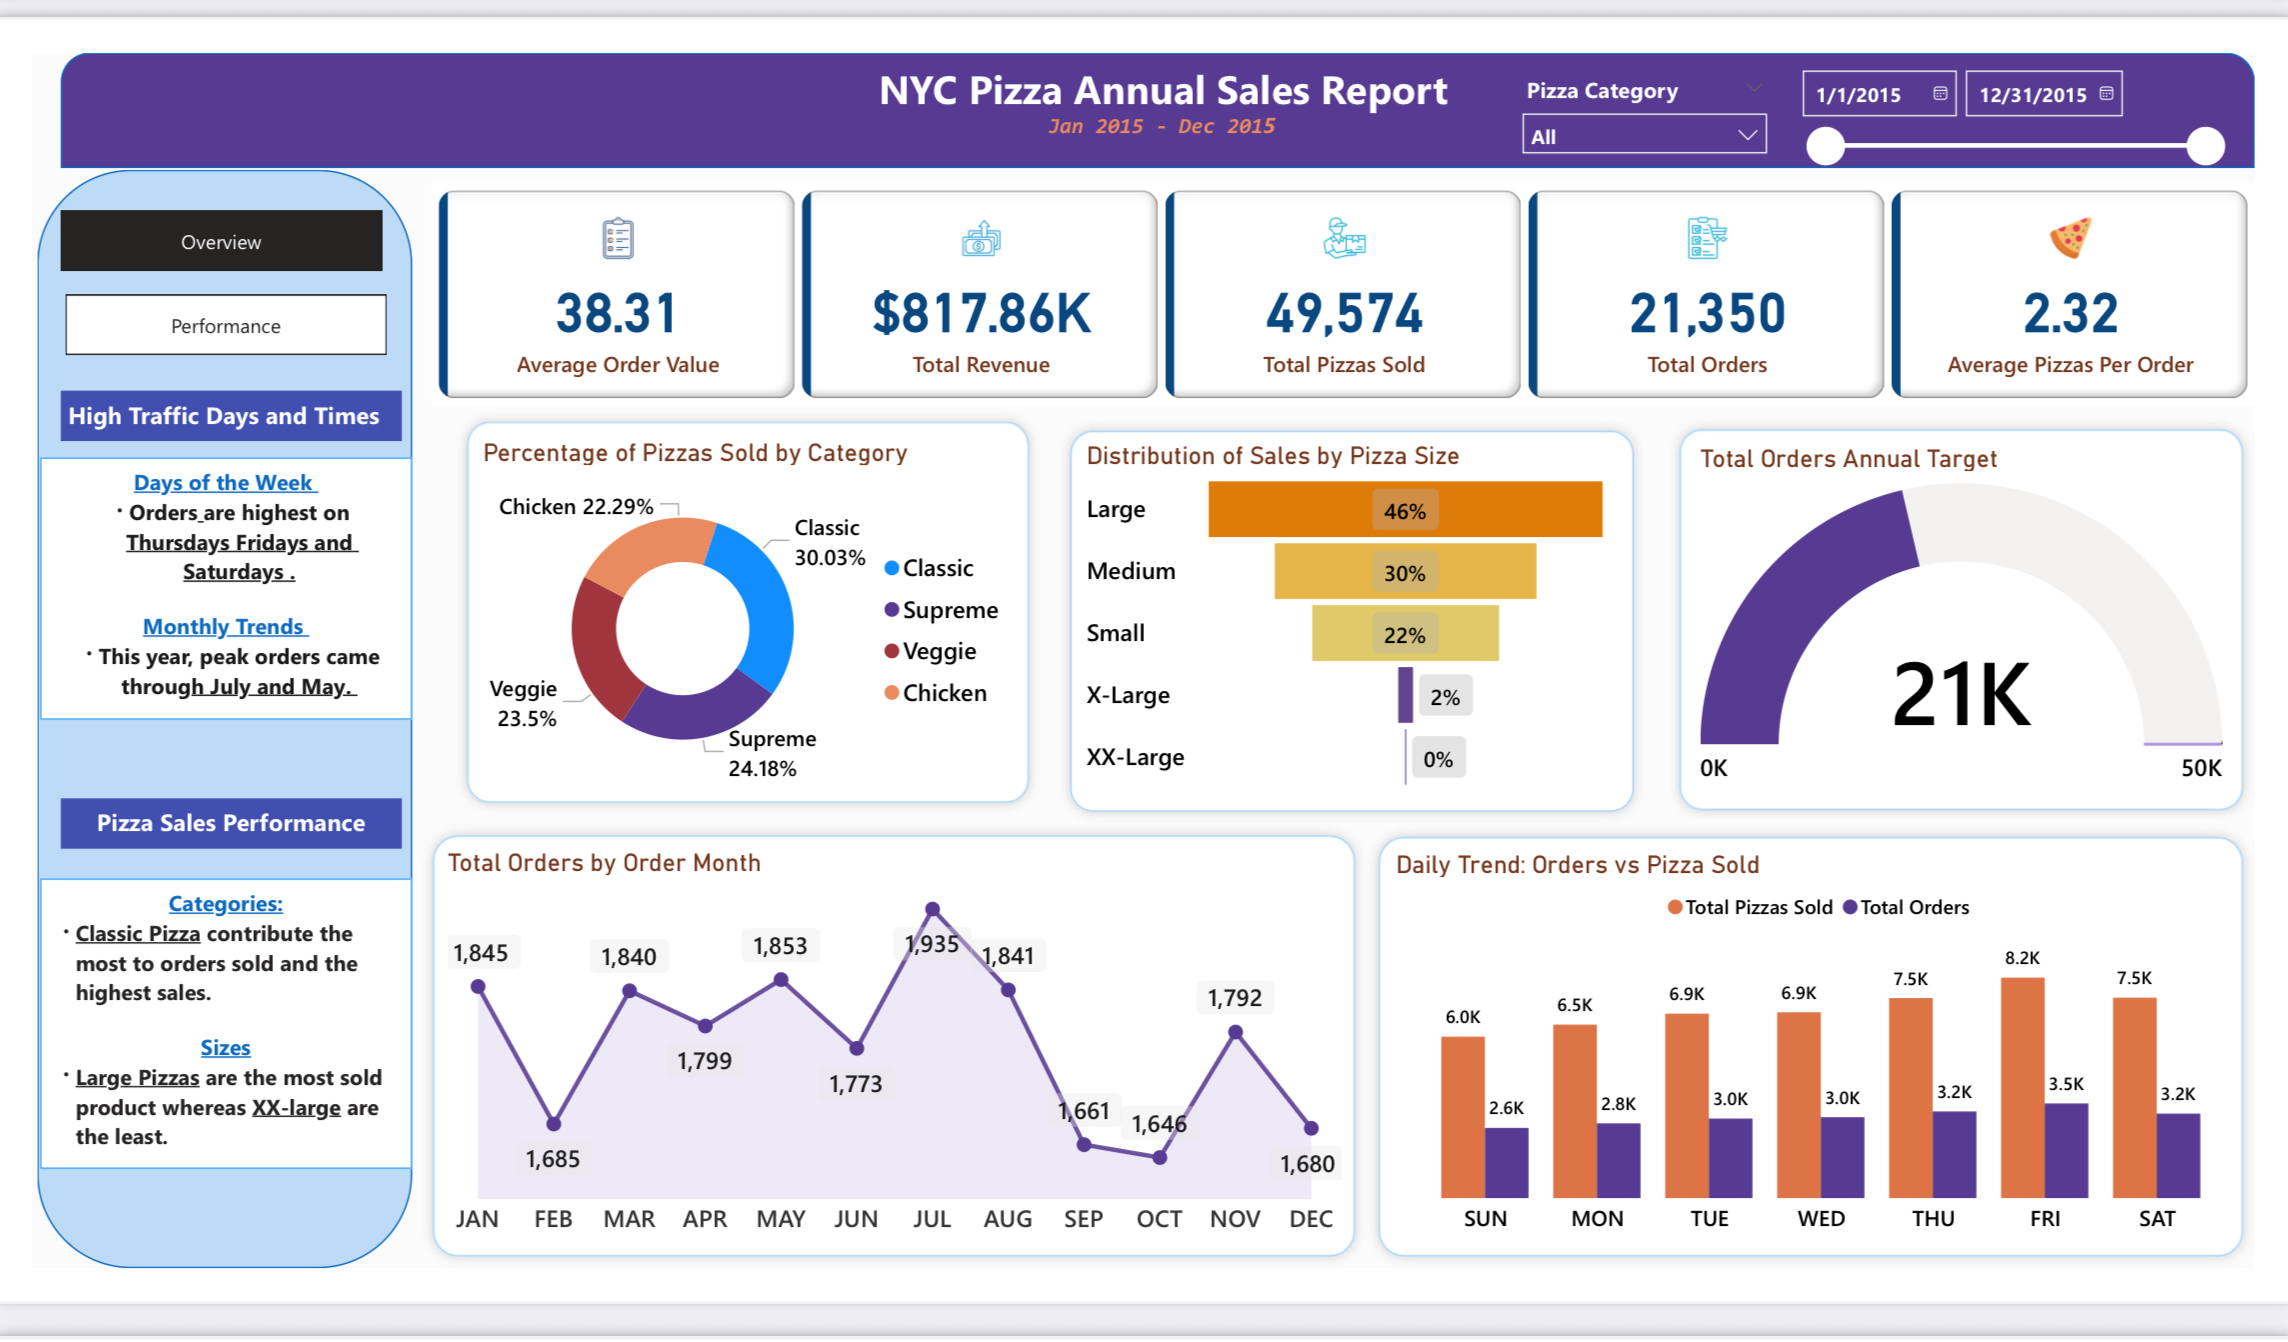

What the dashboard file says about the page in this screenshot:
{"tool":"powerbi","page":{"name":"Overview","canvas":[1500,820],"ordinal":0},"visuals":[{"type":"shape","box":[4.3,78.6,252.9,741.4],"z":0},{"type":"shape","box":[692.9,247.1,395.7,272.9],"z":1000},{"type":"shape","box":[285.7,241.4,395.7,272.9],"z":2000},{"type":"shape","box":[901.4,521.4,598.6,298.6],"z":3000},{"type":"cardVisual","fields":{"Data":["pizza_sales.Average Order Value","pizza_sales.Total Revenue","pizza_sales.Total Pizzas Sold","pizza_sales.Total Orders","pizza_sales.Average Pizzas Per Order"]},"box":[270,88.3,1230,150],"z":4000},{"type":"shape","box":[20,0,1480,78.3],"z":5000},{"type":"textbox","box":[548.6,0,430,52.9],"z":6000},{"type":"textbox","box":[681.4,32.9,220,32.9],"z":7000},{"type":"clusteredColumnChart","title":"Daily Trend: Orders vs Pizza Sold","fields":{"Category":["pizza_sales.Order Day"],"Y":["pizza_sales.Total Pizzas Sold","pizza_sales.Total Orders"]},"box":[915.7,537.1,584.3,270],"z":8000},{"type":"textbox","box":[20,228.3,230,33.3],"z":9000},{"type":"textbox","box":[20,503.3,230,33.3],"z":11000},{"type":"pageNavigator","title":"Home","box":[22.9,162.9,217.1,41.4],"z":12000},{"type":"pageNavigator","title":"Home","box":[20,105.7,217.1,41.4],"z":13000},{"type":"funnel","title":"Distribution of Sales by Pizza Size","fields":{"Y":["Divide(pizza_sales.Total Revenue, ScopedEval(pizza_sales.Total Revenue, []))"],"Category":["pizza_sales.pizza_size"]},"box":[707.1,261.4,362.9,241.4],"z":14000},{"type":"shape","box":[262.9,520,638.6,300],"z":15000},{"type":"donutChart","title":"Percentage of Pizzas Sold by Category","fields":{"Category":["pizza_sales.pizza_category"],"Y":["pizza_sales.Total Pizzas Sold"]},"box":[300,258.6,367.1,240],"z":16000},{"type":"areaChart","fields":{"Category":["pizza_sales.Order Month"],"Y":["pizza_sales.Total Orders"]},"box":[275.7,535.7,612.9,271.4],"z":17000},{"type":"shape","box":[1104.3,245.7,395.7,272.9],"z":18000},{"type":"gauge","title":"Total Orders Annual Target","fields":{"Y":["pizza_sales.Total Orders"],"TargetValue":["pizza_sales.Annual Target"]},"box":[1121.4,262.9,361.4,242.9],"z":19000},{"type":"textbox","box":[5.7,557.1,251.4,195.7],"z":20000},{"type":"textbox","box":[5.7,272.9,251.4,177.1],"z":20001},{"type":"slicer","fields":{"Values":["pizza_sales.pizza_category"]},"box":[995.7,8.6,185.7,60],"z":20002},{"type":"slicer","fields":{"Values":["pizza_sales.order_date"]},"box":[1181.7,1.7,306.7,86.7],"z":20003}]}

Visuals, with their boxes on the page's 1500x820 design canvas (x1, y1, x2, y2). These are canvas units, not pixel positions in the 2288x1342 screenshot, which may show the page scaled, cropped or inside an application window:
shape: box(4, 79, 257, 820)
shape: box(693, 247, 1089, 520)
shape: box(286, 241, 681, 514)
shape: box(901, 521, 1500, 820)
cardVisual - pizza_sales.Average Order Value x pizza_sales.Total Revenue: box(270, 88, 1500, 238)
shape: box(20, 0, 1500, 78)
textbox: box(549, 0, 979, 53)
textbox: box(681, 33, 901, 66)
"Daily Trend: Orders vs Pizza Sold" clusteredColumnChart: box(916, 537, 1500, 807)
textbox: box(20, 228, 250, 262)
textbox: box(20, 503, 250, 537)
"Home" pageNavigator: box(23, 163, 240, 204)
"Home" pageNavigator: box(20, 106, 237, 147)
"Distribution of Sales by Pizza Size" funnel: box(707, 261, 1070, 503)
shape: box(263, 520, 902, 820)
"Percentage of Pizzas Sold by Category" donutChart: box(300, 259, 667, 499)
areaChart - pizza_sales.Order Month x pizza_sales.Total Orders: box(276, 536, 889, 807)
shape: box(1104, 246, 1500, 519)
"Total Orders Annual Target" gauge: box(1121, 263, 1483, 506)
textbox: box(6, 557, 257, 753)
textbox: box(6, 273, 257, 450)
slicer - pizza_sales.pizza_category: box(996, 9, 1181, 69)
slicer - pizza_sales.order_date: box(1182, 2, 1488, 88)
